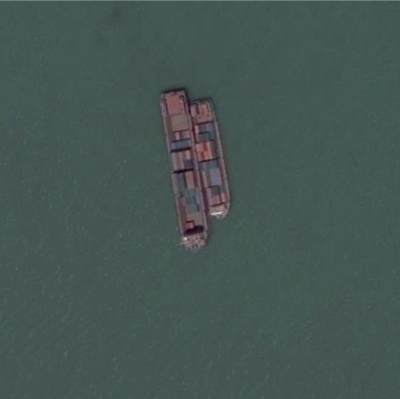boat: (158, 90, 210, 252), (189, 97, 233, 221)
